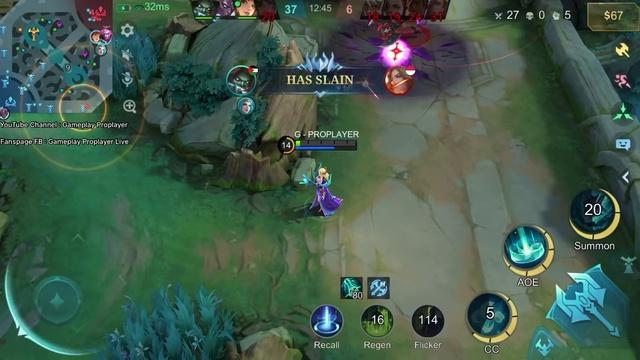Adc_Aliado: (0, 107, 10, 119)
Arbusto: (98, 285, 233, 359), (112, 23, 156, 99)
Exp_Enemigo: (100, 29, 112, 40)
HP_Heroe_Principal: (296, 139, 357, 146)
Jungla_Aliado: (91, 30, 101, 42)
Mana: (297, 148, 359, 151)
Mid_Aliado: (94, 43, 109, 54)
Minimapa: (0, 0, 113, 113)
Skill2: (503, 225, 554, 276)
Vexana: (304, 167, 342, 216)
